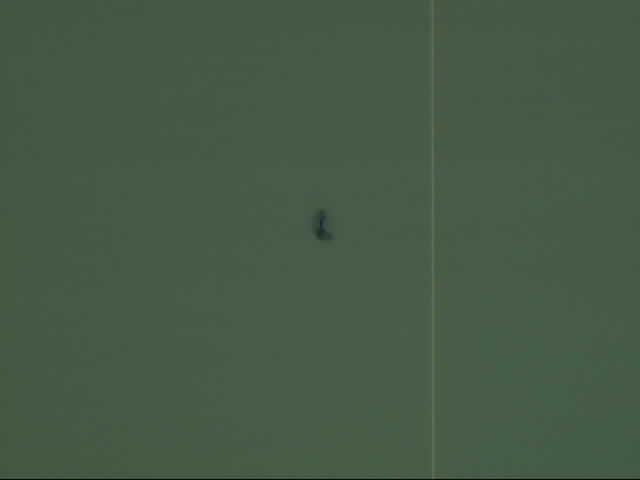PIQ PARTICLE: (304, 201, 340, 249)
